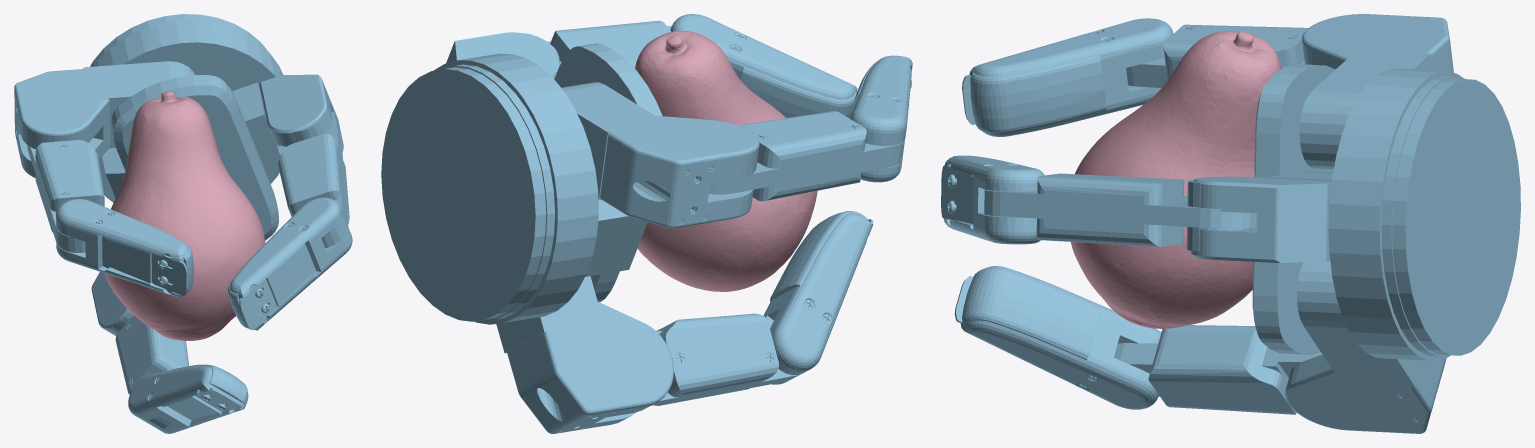
The picture shows the model from 3 angles, left to right: view 1: azimuth 30°, elevation 25°; view 2: azimuth 150°, elevation 25°; view 3: azimuth 270°, elevation 25°; orthographic projection. The views are drawn at different scales.
Parts seen in each view (by area): view 1: world, pear.stl; view 2: world, pear.stl; view 3: world, pear.stl.
Part boxes in pixels (x1=…): world: x1=14, y1=14, x2=352, y2=433; pear.stl: x1=104, y1=91, x2=265, y2=340; world: x1=381, y1=14, x2=912, y2=433; pear.stl: x1=635, y1=31, x2=817, y2=291; world: x1=941, y1=14, x2=1520, y2=433; pear.stl: x1=1071, y1=31, x2=1281, y2=328.
Size of the model in its own units: 0.1566 by 0.1377 by 0.1776.
